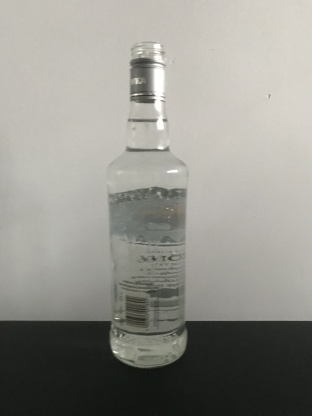nakretka: (127, 40, 167, 103)
